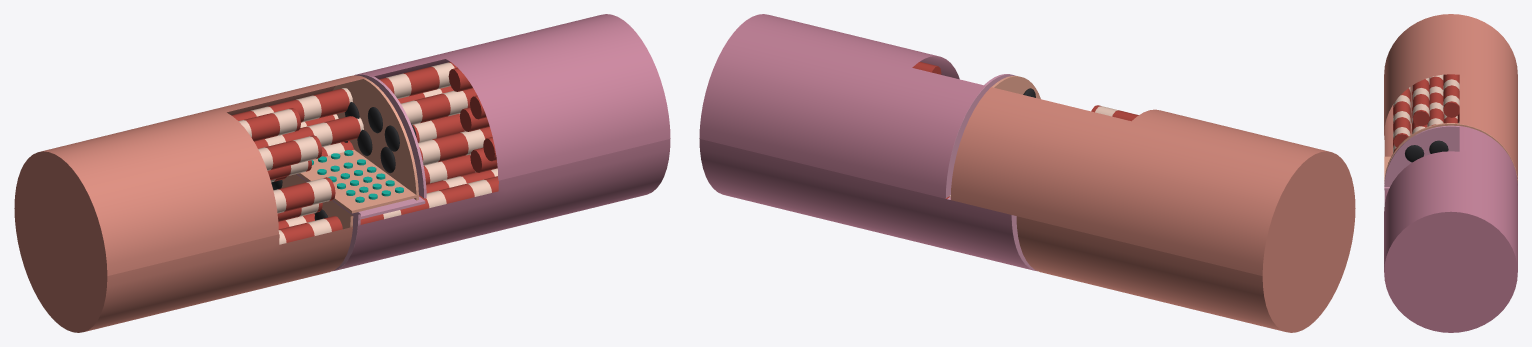
The model's file is discs.glb.
The picture shows the model from 3 angles, left to right: view 1: azimuth 30°, elevation 25°; view 2: azimuth 150°, elevation 25°; view 3: azimuth 270°, elevation 25°; orthographic projection. The views are drawn at different scales.
Parts seen in each view (by area): view 1: Sarcolemma.001, Sarcolemma.002, Myofibrils.002, Myofibrils.001, Cell membranes.001, Cell membranes.002, Desmosomes, Gap junctions; view 2: Sarcolemma.001, Sarcolemma.002, Cell membranes.002, Cell membranes.001; view 3: Sarcolemma.002, Sarcolemma.001, Myofibrils.001, Cell membranes.002, Cell membranes.001, Desmosomes.
Boxes of the visible parts, x1,y1,x2,y2 form: Sarcolemma.001: [14, 75, 366, 332]; Sarcolemma.002: [332, 14, 670, 271]; Myofibrils.002: [321, 62, 498, 224]; Myofibrils.001: [231, 88, 363, 244]; Cell membranes.001: [273, 78, 418, 229]; Cell membranes.002: [296, 74, 426, 270]; Desmosomes: [271, 102, 416, 220]; Gap junctions: [311, 150, 403, 202]; Sarcolemma.001: [950, 87, 1355, 332]; Sarcolemma.002: [699, 14, 1037, 271]; Cell membranes.002: [945, 74, 1035, 270]; Cell membranes.001: [992, 76, 1040, 98]; Sarcolemma.002: [1384, 126, 1517, 332]; Sarcolemma.001: [1384, 14, 1517, 183]; Myofibrils.001: [1393, 74, 1459, 153]; Cell membranes.002: [1384, 125, 1459, 190]; Cell membranes.001: [1384, 123, 1517, 183]; Desmosomes: [1405, 140, 1448, 162].
Size of the model in its own units: 7.7 by 2.2 by 2.2.
